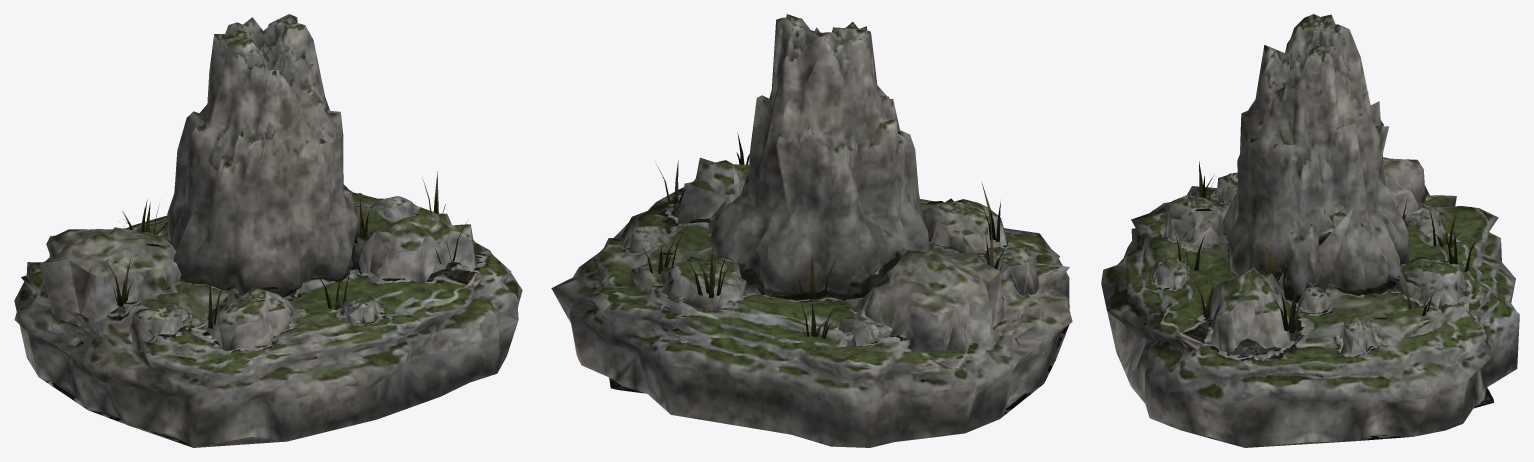
The model's file is rathalos_base.glb.
3 views of the same model, side by side, from view 1: azimuth 30°, elevation 25°; view 2: azimuth 150°, elevation 25°; view 3: azimuth 270°, elevation 25° (orthographic). The views are drawn at different scales.
Visible parts, largest first — view 1: Rocks, Plants; view 2: Rocks, Plants; view 3: Rocks, Plants.
Part boxes in pixels (x1,y1,x2,y2): Rocks: (14, 14, 522, 447); Plants: (104, 171, 467, 328); Rocks: (551, 14, 1072, 447); Plants: (641, 133, 1010, 339); Rocks: (1101, 14, 1519, 447); Plants: (1170, 161, 1480, 333).
Bounding box in the file's own units: 0.1461 × 0.1065 × 0.1281.
3 materials, 2 textured.
